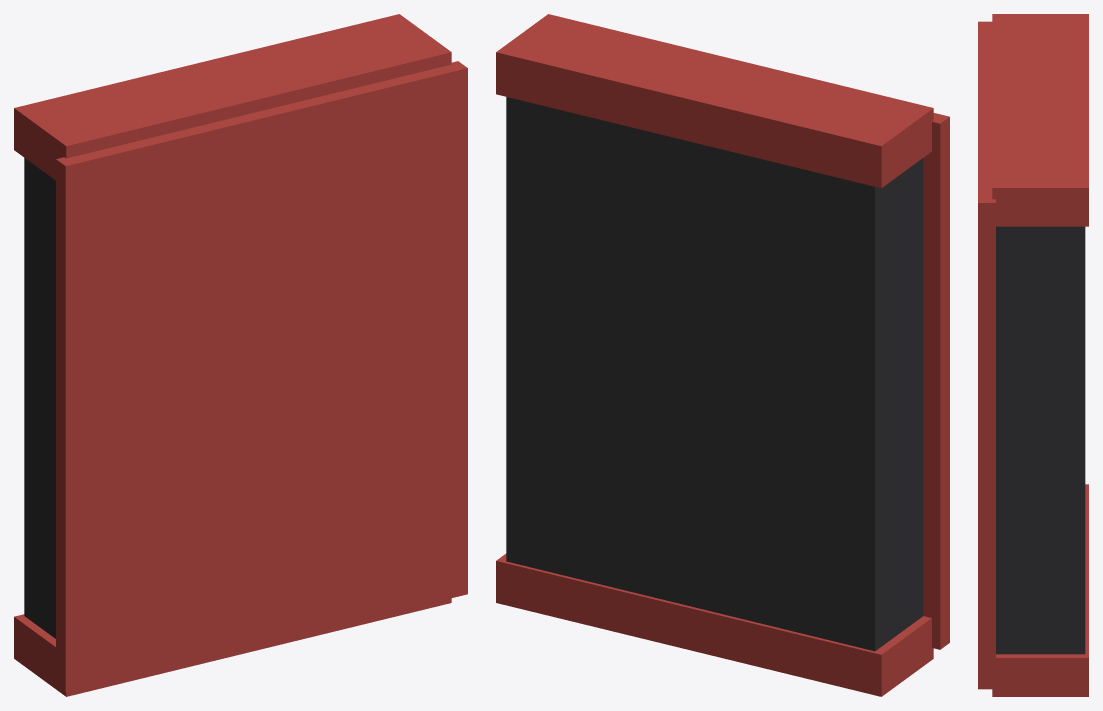
File: side_lod2.glb
3 views of the same model, side by side, from view 1: azimuth 30°, elevation 25°; view 2: azimuth 150°, elevation 25°; view 3: azimuth 270°, elevation 25° (orthographic). The views are drawn at different scales.
Visible parts, largest first — view 1: side_lod2; view 2: side_lod2; view 3: side_lod2.
Part boxes in pixels (<box>): side_lod2: <box>14,14,467,696</box>; side_lod2: <box>496,14,949,696</box>; side_lod2: <box>978,14,1088,696</box>.
Size of the model in its own units: 0.24 by 0.314 by 0.062.
